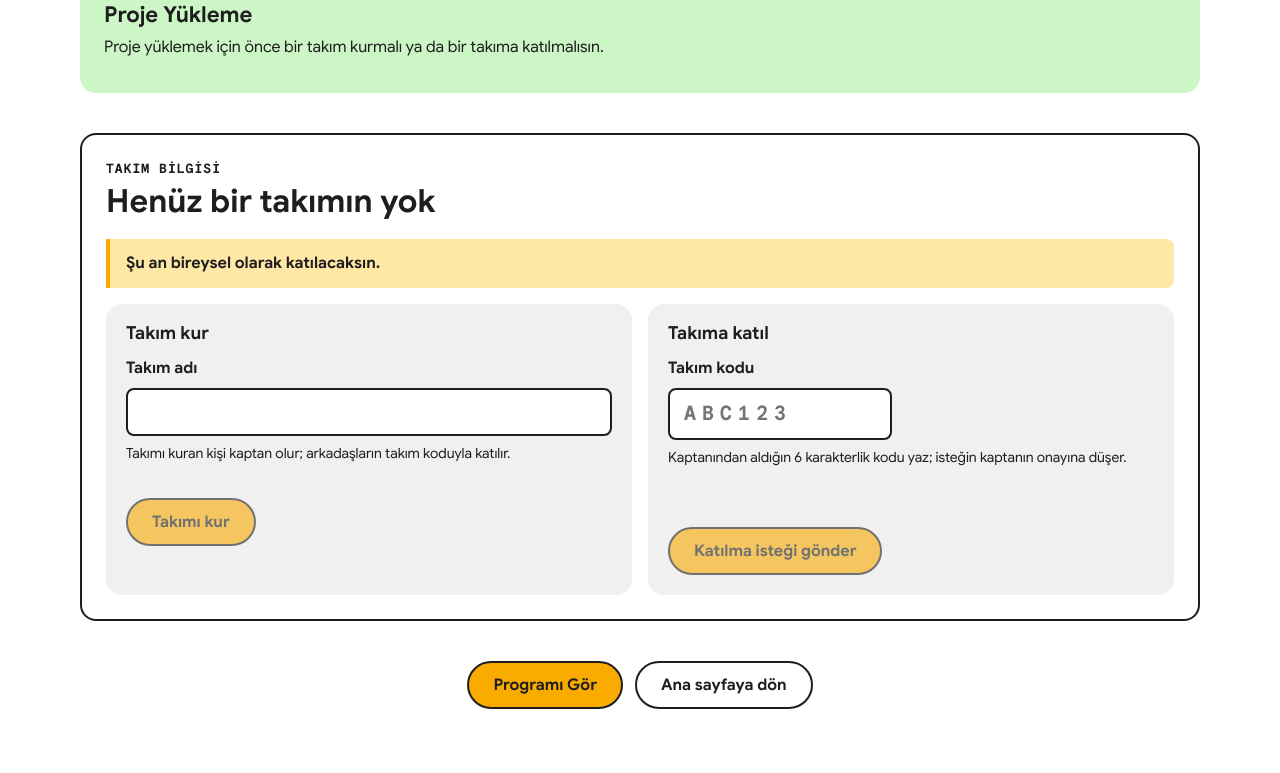
Test: Başvurum sayfası › takımı olmayan kişi bireysel uyarısını görür, kodla istek gönderir ve geri çekebilir
This screenshot has width=1280, height=773.
(page scrolled)
Expected: the text "Şu an bireysel olarak katılacaksın." is shown, [106, 239, 1174, 288]
Expected: the button "Katılma isteği gönder" is disabled, [668, 527, 882, 575]
Step 1. Type "ab12cd" into the field labelled "Takım kodu" → coordinates (780, 414), box [668, 388, 892, 440]
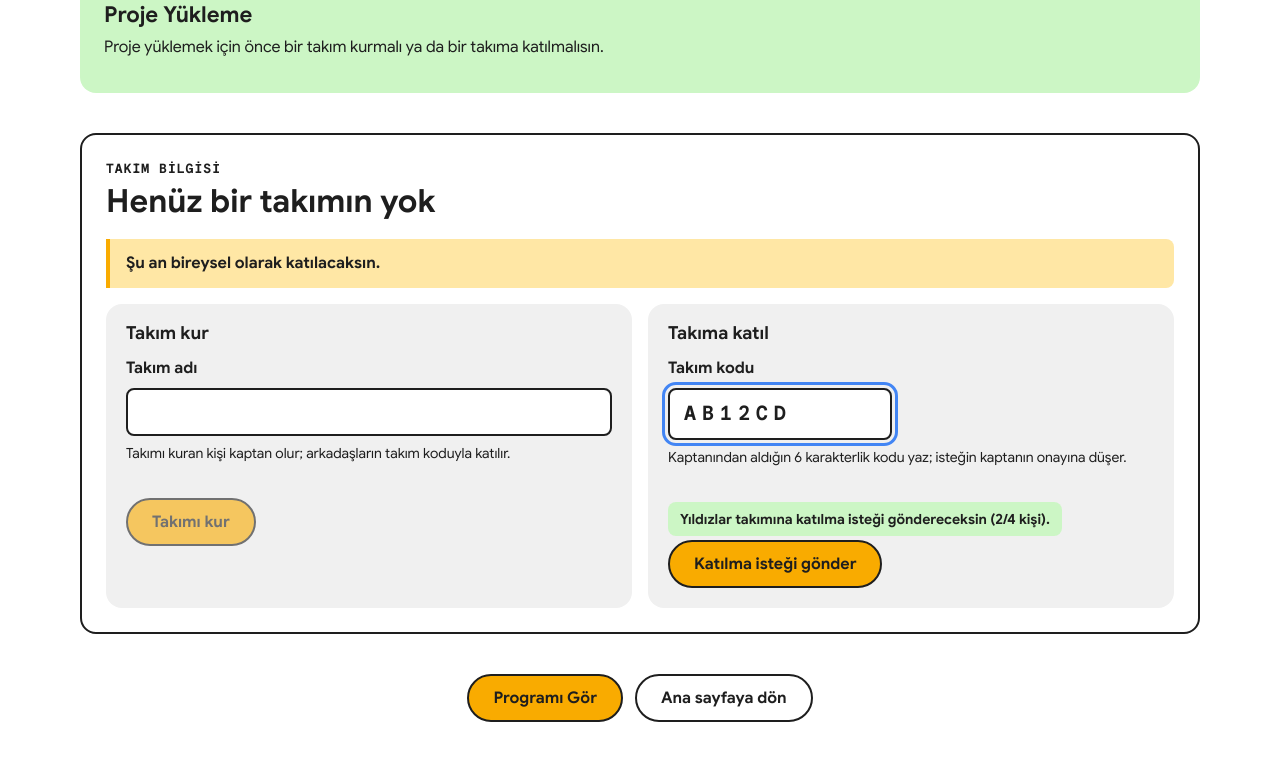
Now the text "Yıldızlar takımına katılma isteği göndereceksin (2/4 kişi)." is shown, box [668, 502, 1062, 536]
Step 2. Click the button "Katılma isteği gönder" → coordinates (775, 564), box [668, 540, 882, 588]
(page scrolled)
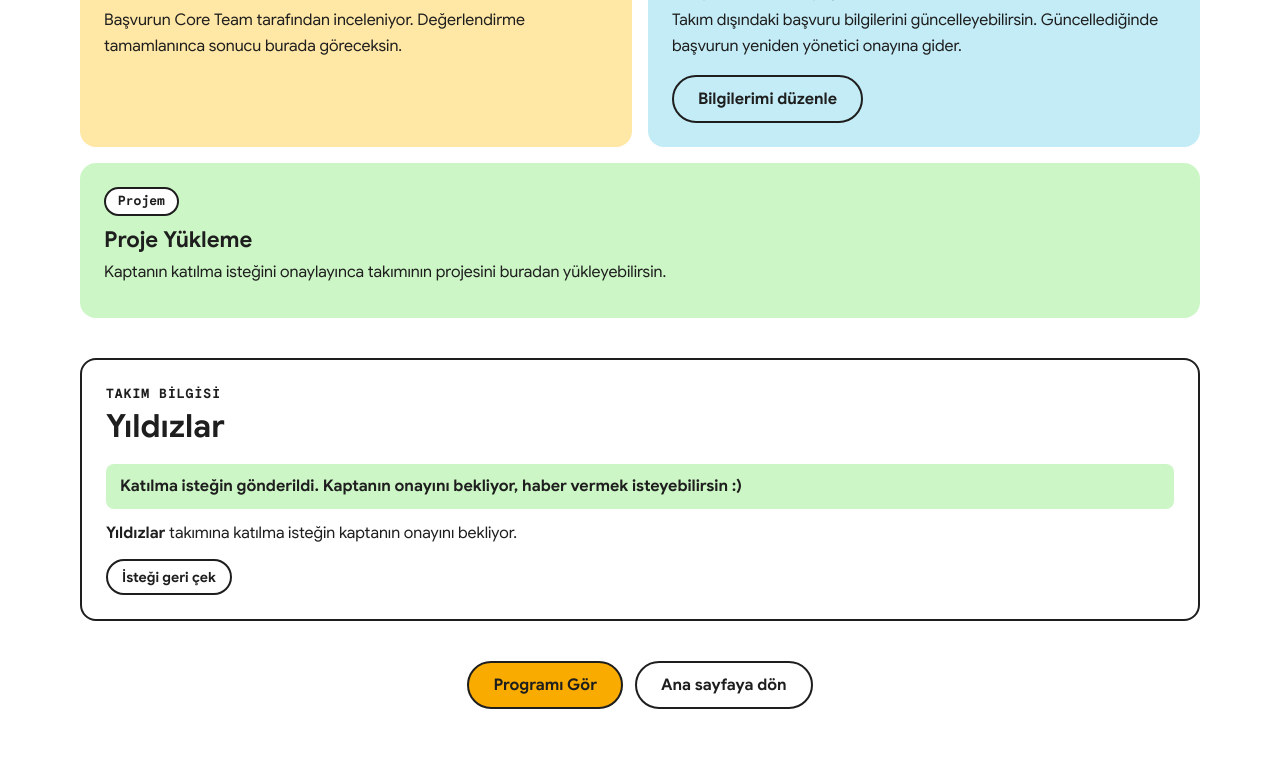
Now the text "takımına katılma isteğin kaptanın onayını bekliyor" is shown, box [165, 523, 517, 543]
Now the text "haber vermek isteyebilirsin" is shown, box [120, 476, 742, 496]
Step 3. Click the button "İsteği geri çek" → coordinates (169, 577), box [106, 559, 232, 595]
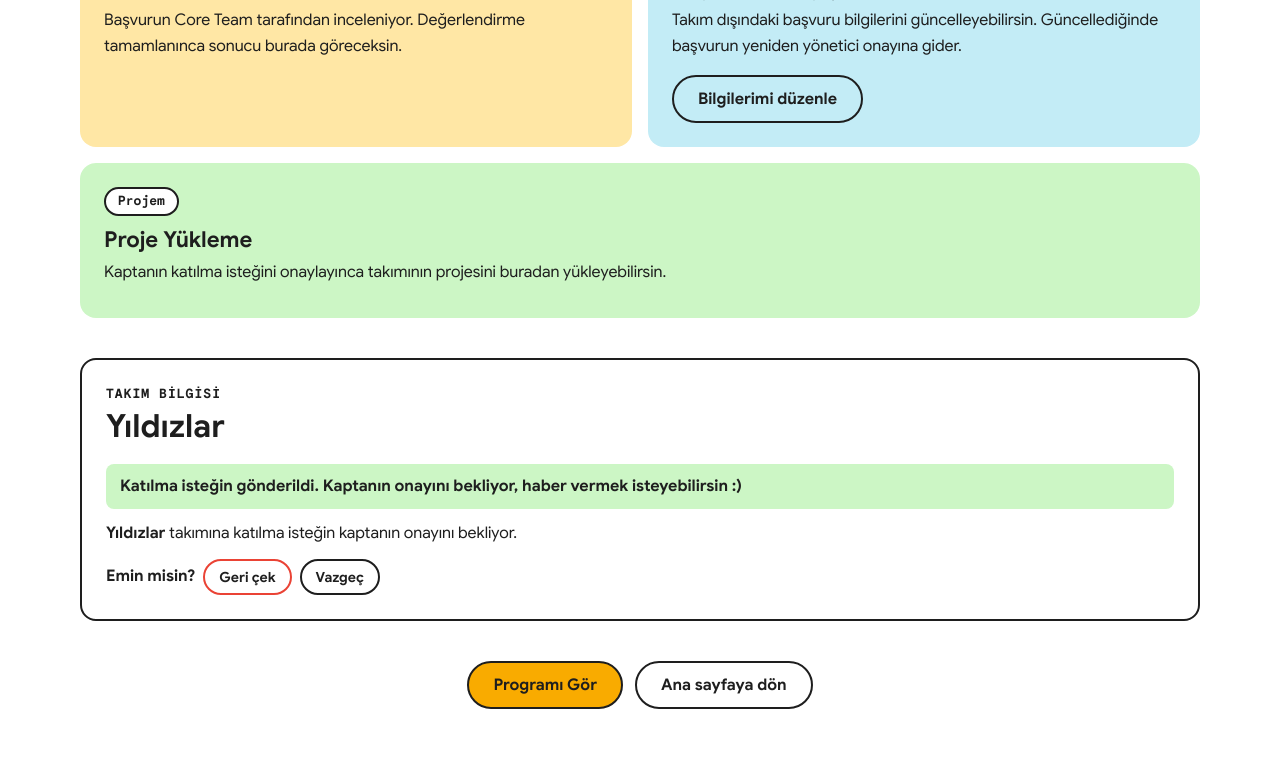
Step 4. Click the button "Geri çek" → coordinates (247, 577), box [203, 559, 292, 595]
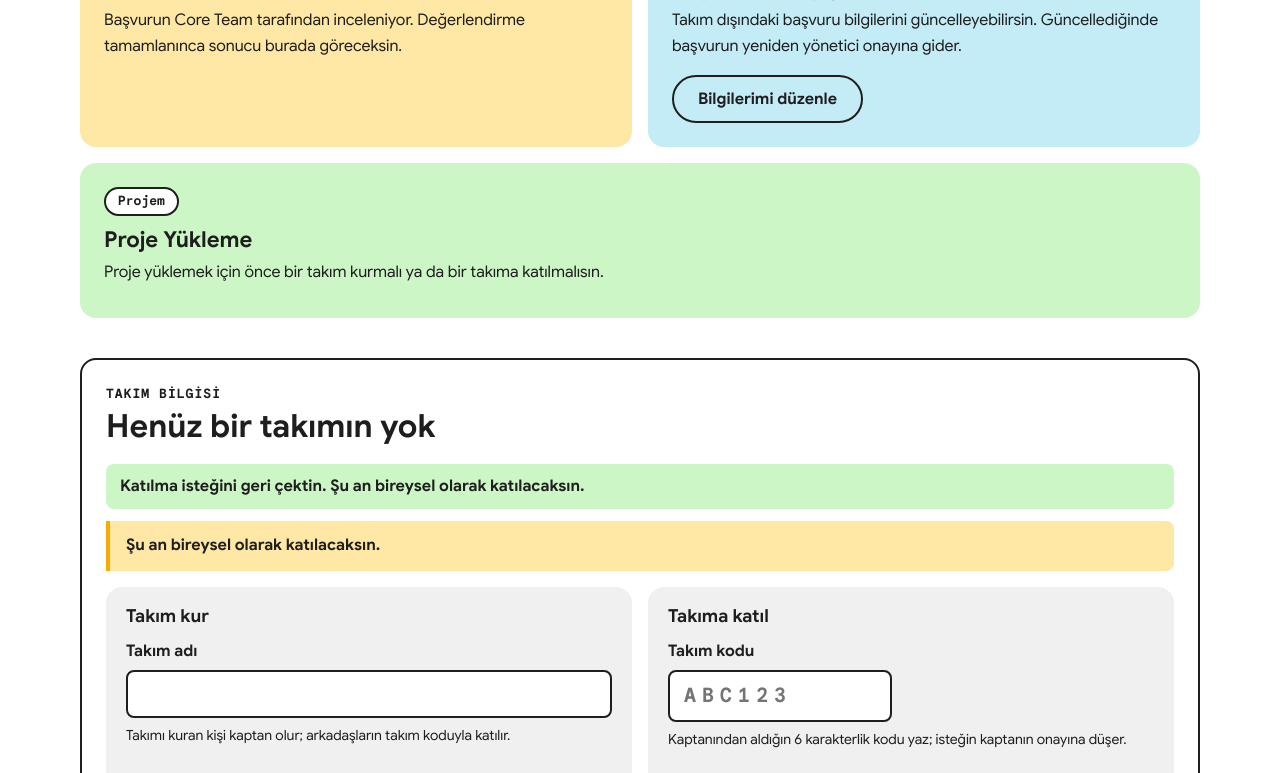
Now the text "Şu an bireysel olarak katılacaksın." is shown, box [106, 521, 1174, 571]
